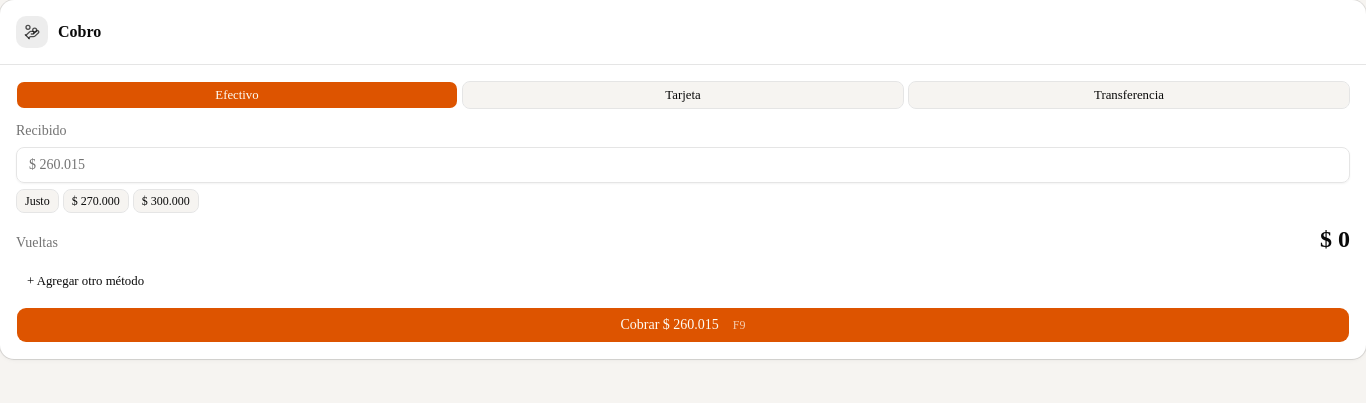
Test case: TarjetaCobro › sin cliente, recibir menos que el total avisa lo que falta y no deja cobrar
Type "200000" into the number field labelled "Recibido" at (683, 165), box [16,147,1350,183]
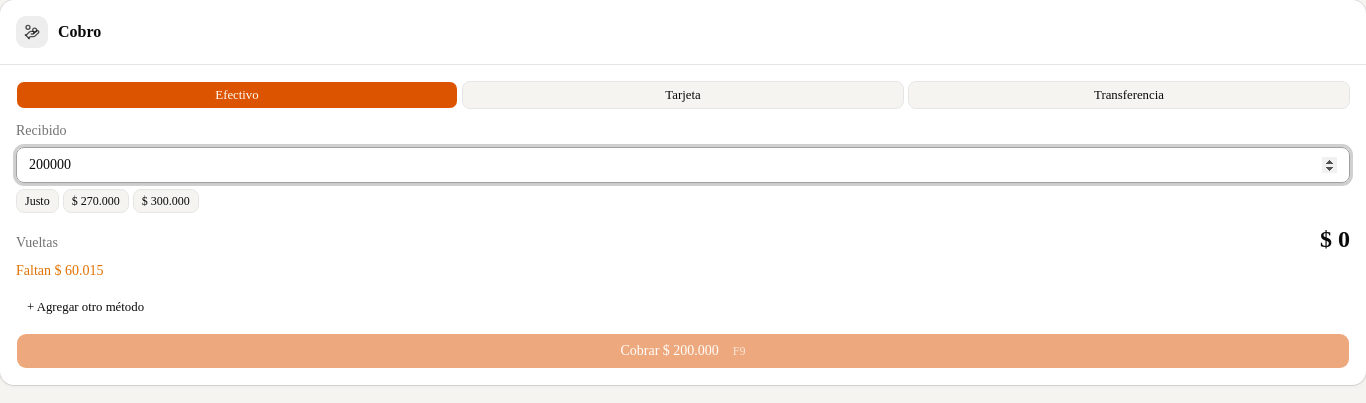
Result: the button "Cobrar $ 200.000 F9" is disabled at [16,333,1350,369]
